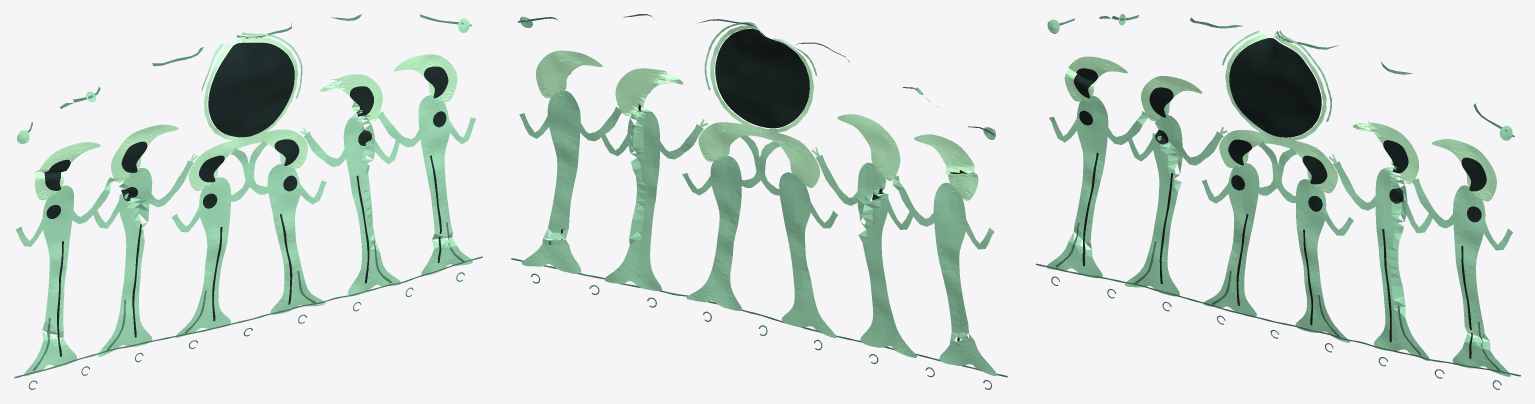
The model's file is mural-pigment.glb.
The picture shows the model from 3 angles, left to right: view 1: azimuth 30°, elevation 25°; view 2: azimuth 150°, elevation 25°; view 3: azimuth 330°, elevation 25°; orthographic projection. The views are drawn at different scales.
Visible parts, largest first — view 1: mural-pigment; view 2: mural-pigment; view 3: mural-pigment.
Part boxes in pixels (left/top/right/bottom): mural-pigment: left=14, top=14, right=482, bottom=389; mural-pigment: left=511, top=14, right=1007, bottom=389; mural-pigment: left=1036, top=14, right=1520, bottom=389.
Bounding box in the file's own units: 5.44 × 3.3 × 0.3377.
